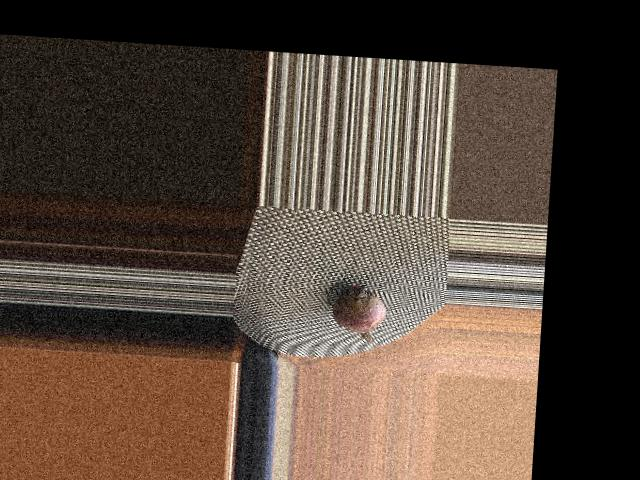beet: (322, 281, 396, 350)
